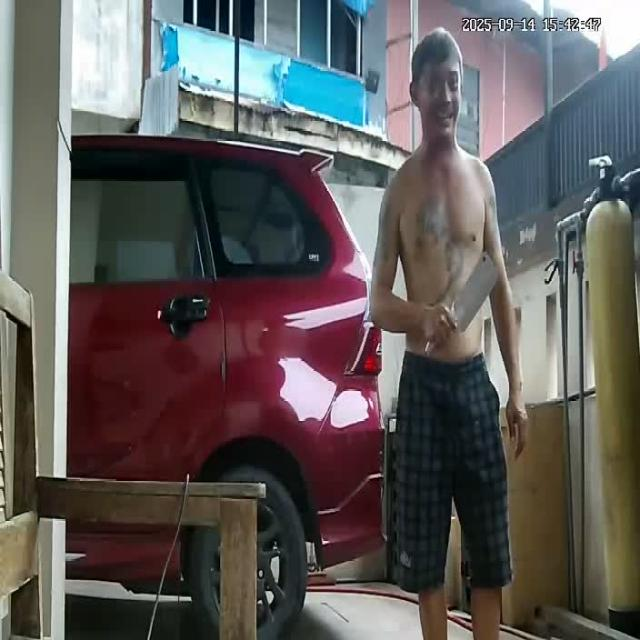senjata_tajam: (450, 247, 501, 335)
